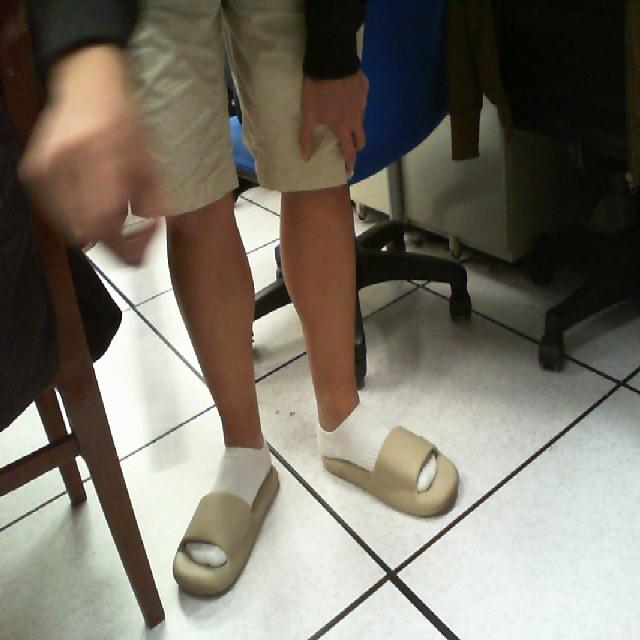Pen: (88, 201, 202, 504)
